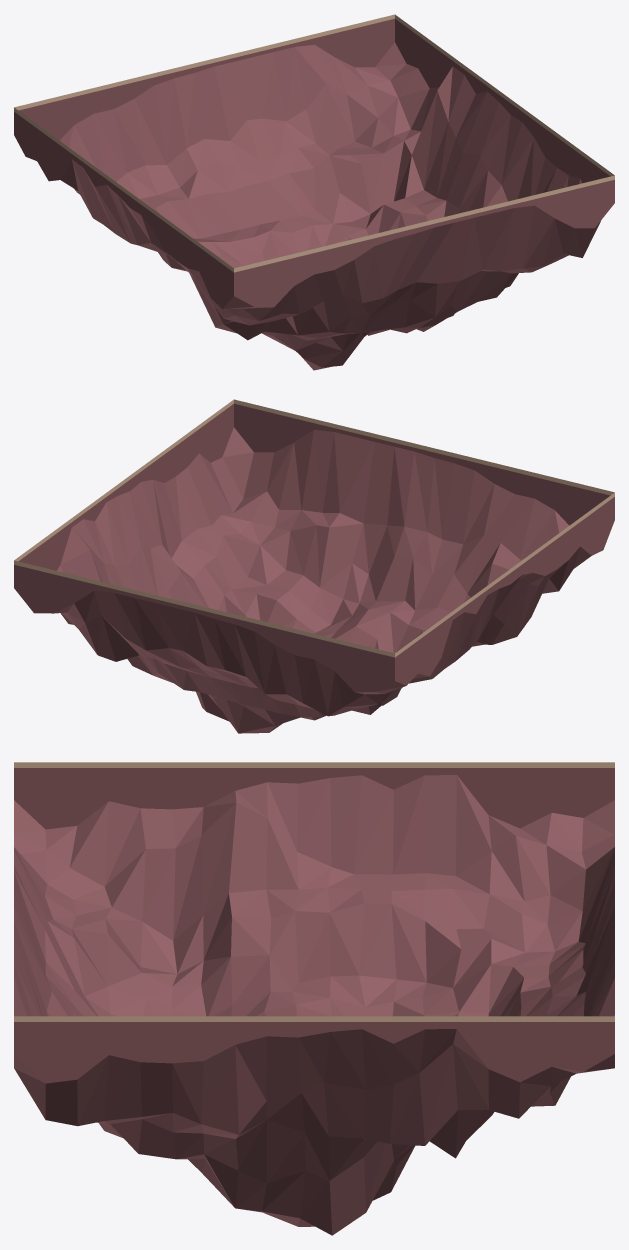
File: marine-biome-bottom.glb
The picture shows the model from 3 angles, top to bottom: view 1: azimuth 30°, elevation 25°; view 2: azimuth 150°, elevation 25°; view 3: azimuth 270°, elevation 25°; orthographic projection. The views are drawn at different scales.
Parts seen in each view (by area): view 1: Landscape-BOTTOM.001; view 2: Landscape-BOTTOM.001; view 3: Landscape-BOTTOM.001.
Part boxes in pixels (x1,y1,x2,y2): Landscape-BOTTOM.001: (14, 14, 614, 370); Landscape-BOTTOM.001: (14, 399, 614, 733); Landscape-BOTTOM.001: (14, 762, 614, 1235).
Size of the model in its own units: 2 by 1.02 by 2.
